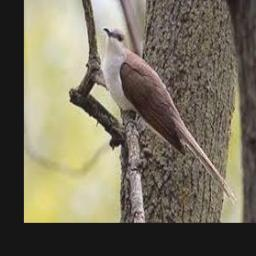Cuckoo: (103, 27, 238, 204)
